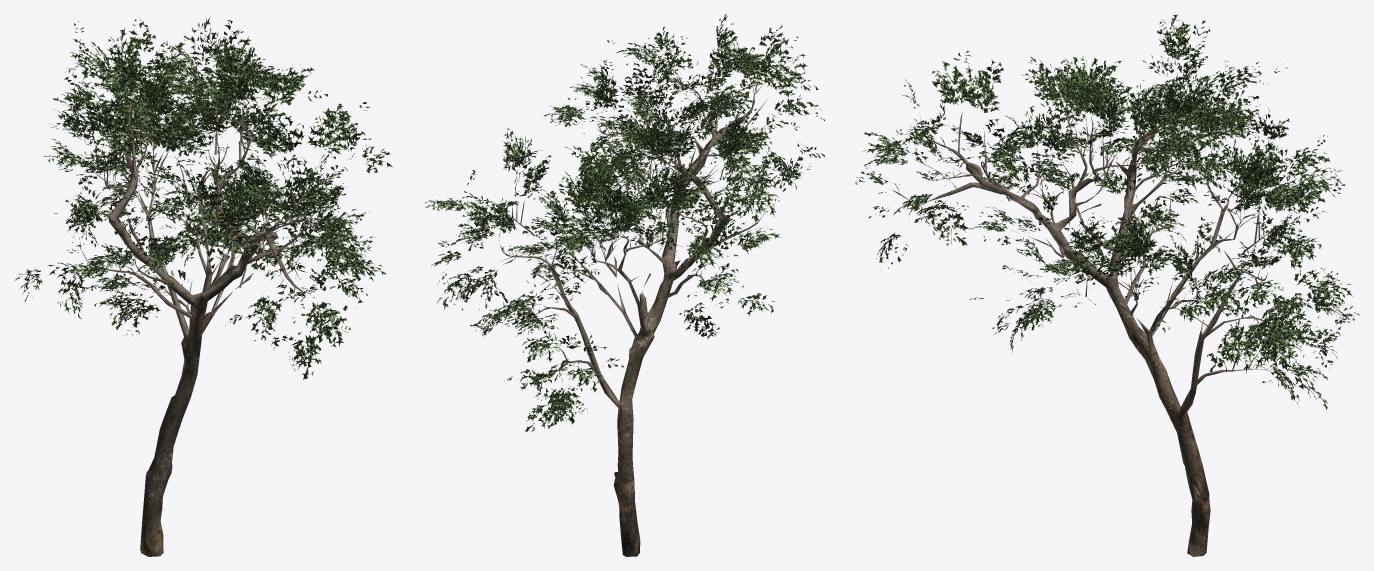
The model's file is tree-near.glb.
3 views of the same model, side by side, from view 1: azimuth 30°, elevation 25°; view 2: azimuth 150°, elevation 25°; view 3: azimuth 270°, elevation 25° (orthographic). The views are drawn at different scales.
Visible parts, largest first — view 1: tree_small_02_LOD0; view 2: tree_small_02_LOD0; view 3: tree_small_02_LOD0.
Boxes of the visible parts, x1,y1,x2,y2 form: tree_small_02_LOD0: [15, 16, 392, 556]; tree_small_02_LOD0: [425, 14, 825, 556]; tree_small_02_LOD0: [855, 14, 1359, 556].
Size of the model in its own units: 2.88 by 4.55 by 4.17.
Materials: 3 (3 with a texture image).
